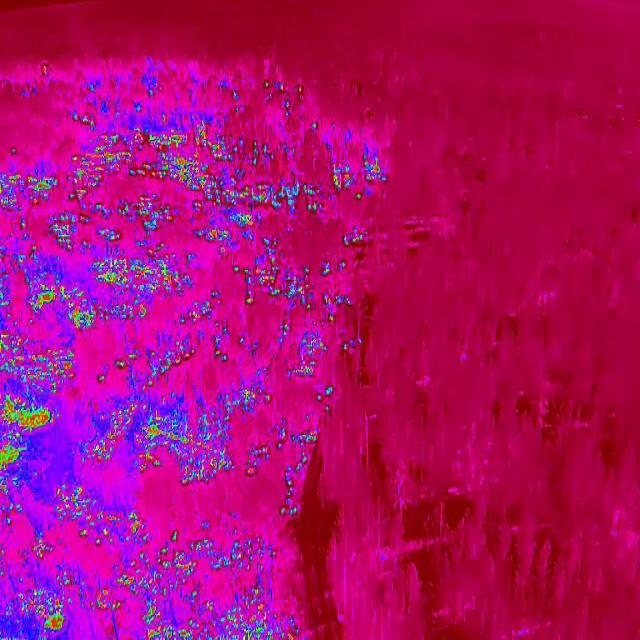fire: (67, 114, 392, 234), (1, 485, 143, 640), (87, 388, 275, 490), (22, 223, 188, 336), (192, 224, 376, 324), (143, 527, 300, 640), (0, 332, 75, 480), (215, 326, 332, 382), (82, 339, 195, 389), (279, 420, 318, 520), (0, 166, 66, 216)
